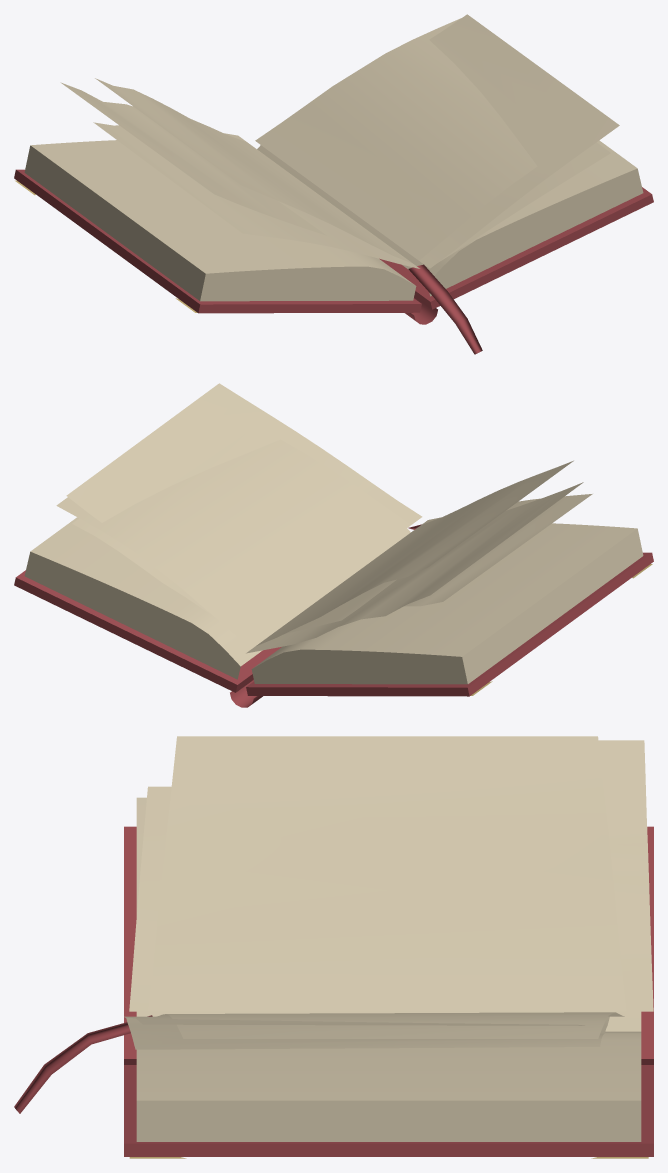
The model's file is FloatingBook.fbx.
3 views of the same model, one above another, from view 1: azimuth 30°, elevation 25°; view 2: azimuth 150°, elevation 25°; view 3: azimuth 270°, elevation 25° (orthographic). The views are drawn at different scales.
Parts seen in each view (by area): view 1: FloatingBook; view 2: FloatingBook; view 3: FloatingBook.
Part boxes in pixels (<box>): FloatingBook: <box>14,14,653,354</box>; FloatingBook: <box>14,383,653,707</box>; FloatingBook: <box>14,736,653,1158</box>.
Bounding box in the file's own units: 0.4188 × 0.1501 × 0.3527.
